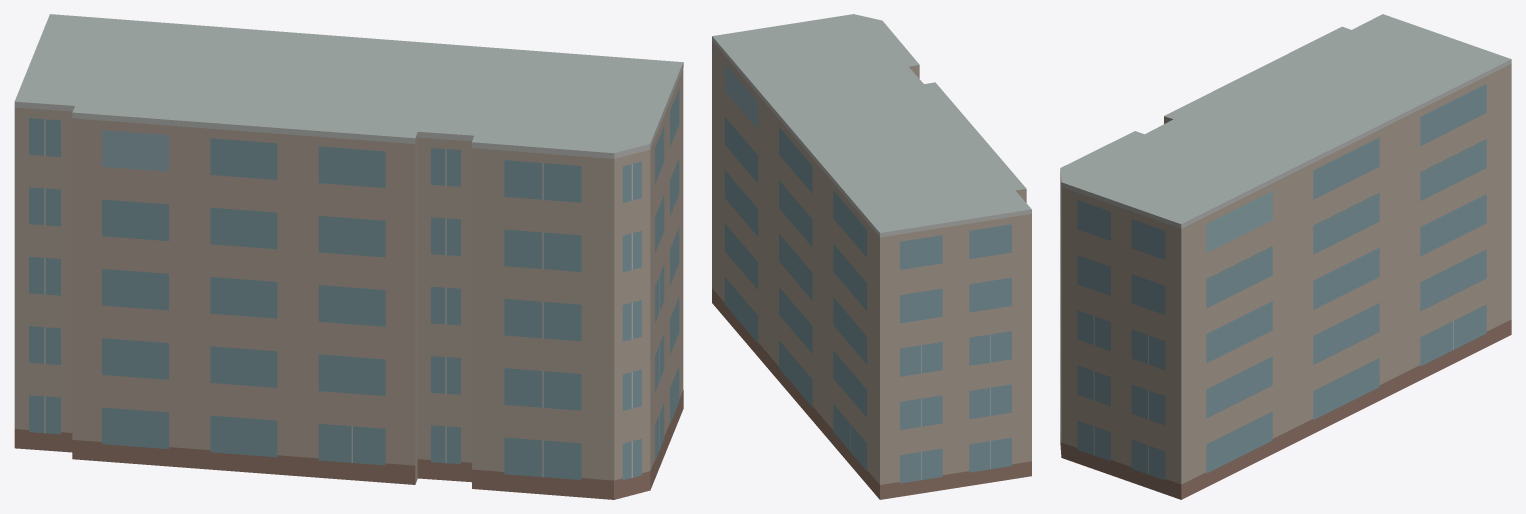
File: survey-upis-32680319.glb
3 views of the same model, side by side, from view 1: azimuth 30°, elevation 25°; view 2: azimuth 150°, elevation 25°; view 3: azimuth 270°, elevation 25° (orthographic). The views are drawn at different scales.
Visible parts, largest first — view 1: survey-upis-32680319.tmp; view 2: survey-upis-32680319.tmp; view 3: survey-upis-32680319.tmp.
Part boxes in pixels (box(x1,y1,x2,y2)): survey-upis-32680319.tmp: box(14, 14, 683, 499); survey-upis-32680319.tmp: box(712, 14, 1031, 499); survey-upis-32680319.tmp: box(1060, 14, 1511, 499).
Bounding box in the file's own units: 23.98 × 14.65 × 21.74.
